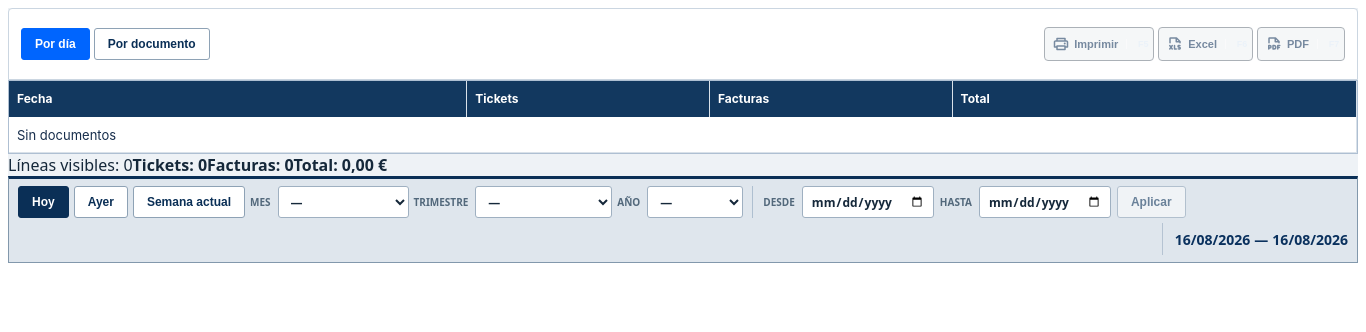
SalesReportScreen › restarts DOCUMENT pagination on the server date when load more crosses midnight
Click the button "Por documento" at (152, 44), box [94, 28, 210, 60]
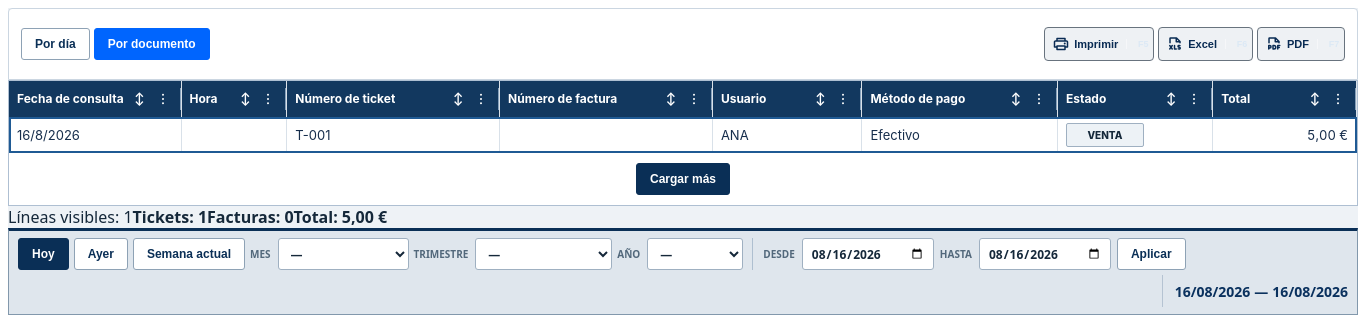
Click the button "Cargar más" at (683, 179), box [636, 163, 730, 195]
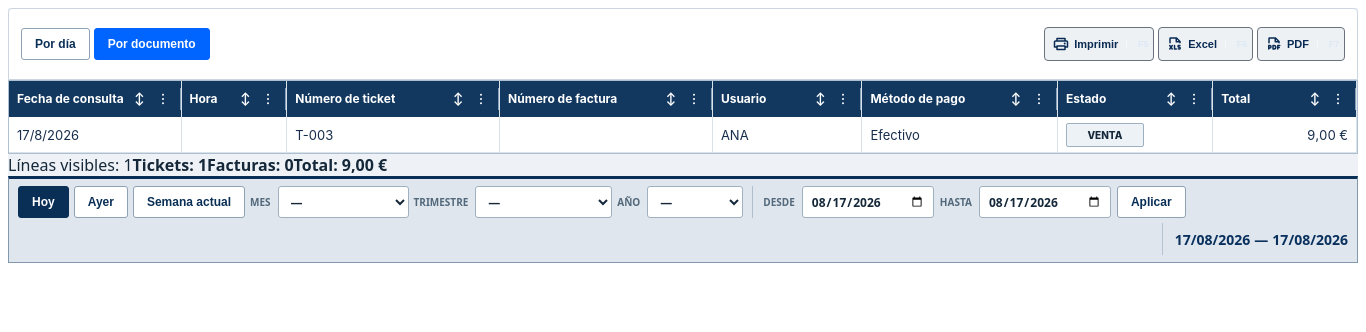
Check: the text "9,00 €" is shown, box [1213, 117, 1357, 153]
Check: the text "5,00" is gone
